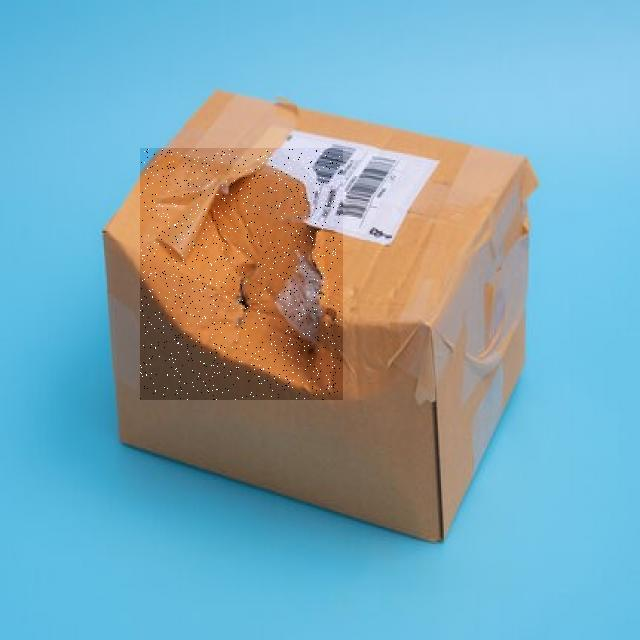squeeze: (141, 150, 341, 400)
